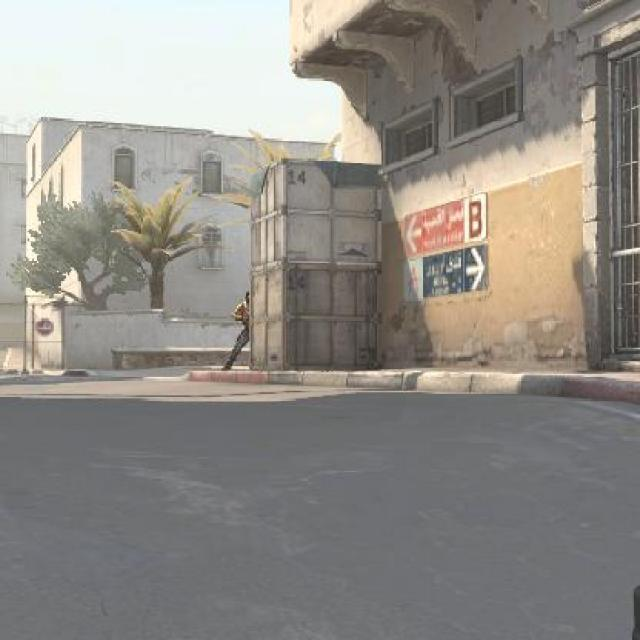T-Body: (231, 286, 250, 363)
